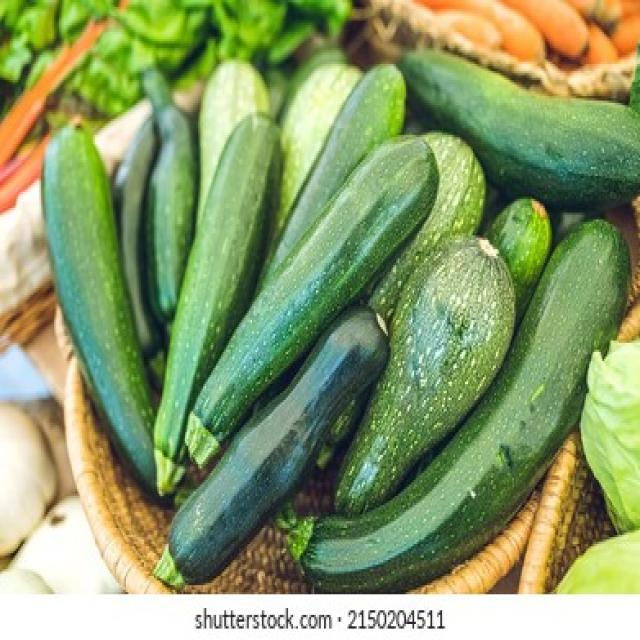Zucchini: (43, 127, 156, 476), (407, 45, 640, 201)
